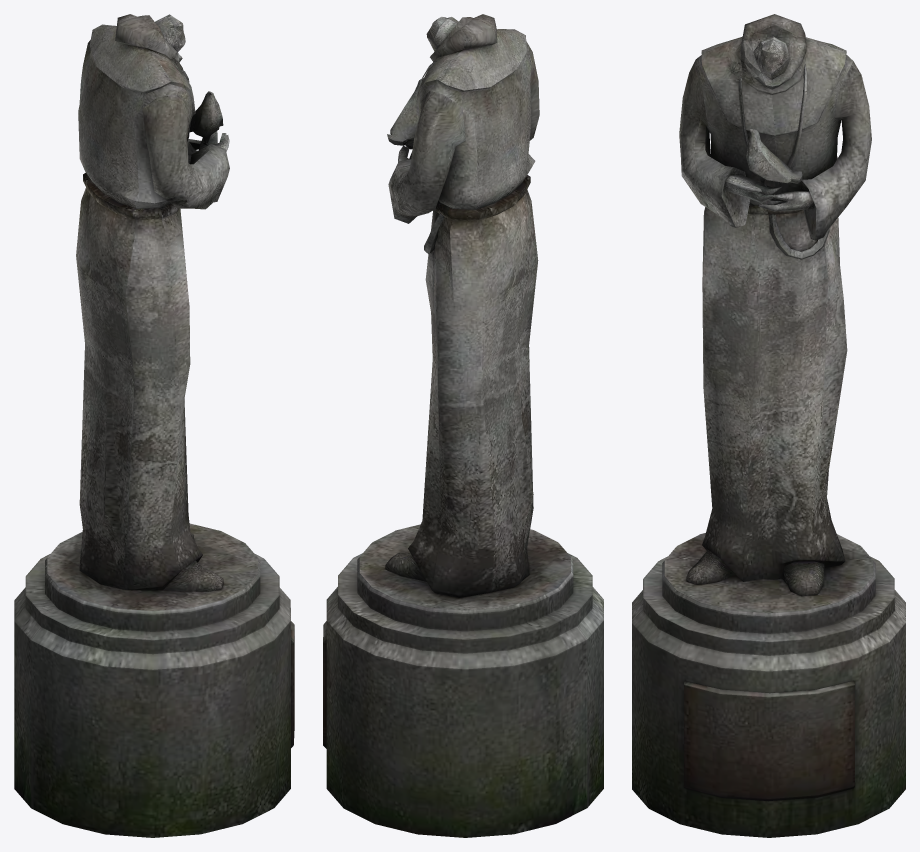
Rendered from gravestone_statue001a.glb.
3 views of the same model, side by side, from view 1: azimuth 30°, elevation 25°; view 2: azimuth 150°, elevation 25°; view 3: azimuth 270°, elevation 25° (orthographic).
Visible parts, largest first — view 1: 0_statue001a; view 2: 0_statue001a; view 3: 0_statue001a.
Boxes of the visible parts, <box> form: 0_statue001a: <box>14,14,294,837</box>; 0_statue001a: <box>323,14,603,837</box>; 0_statue001a: <box>632,14,905,837</box>.
Size of the model in its own units: 1.84 by 5.44 by 1.79.
1 material, 1 textured.
